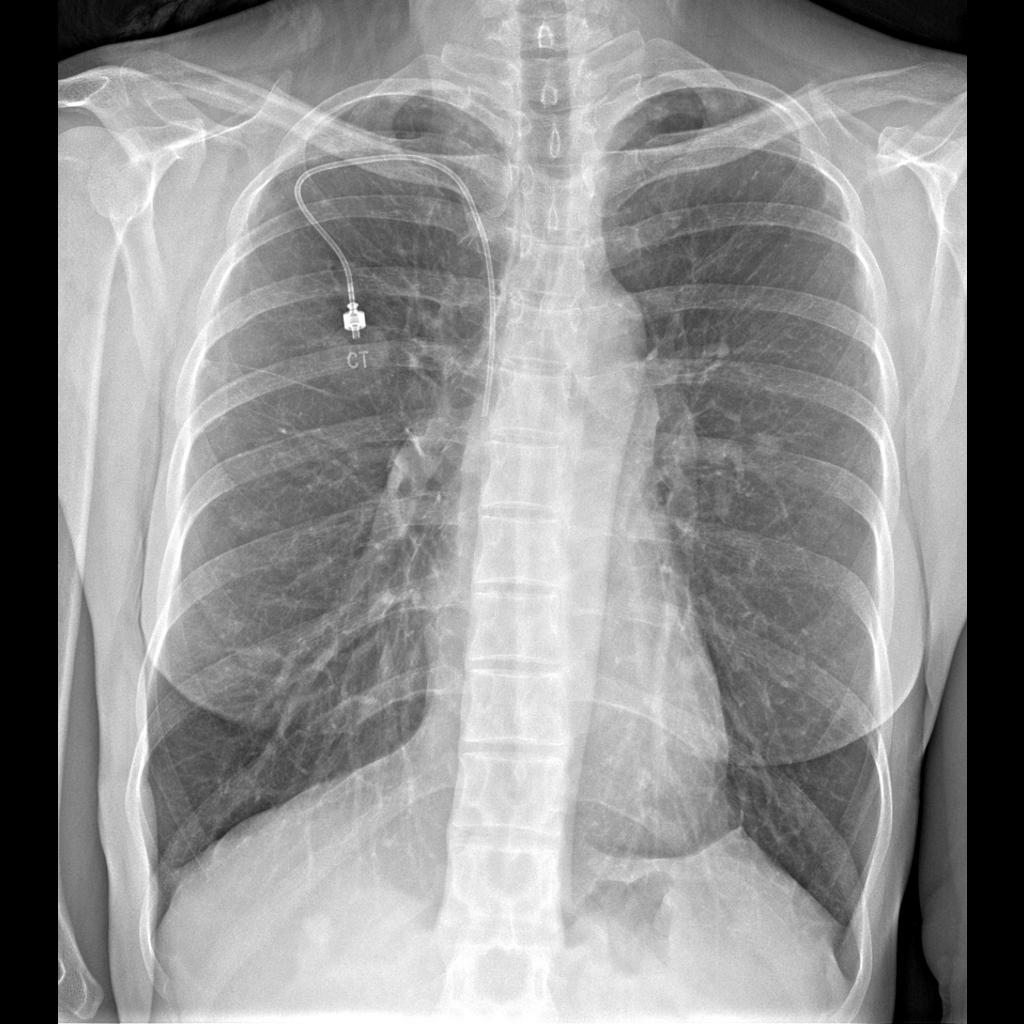Nodule: (743, 420, 786, 470)
